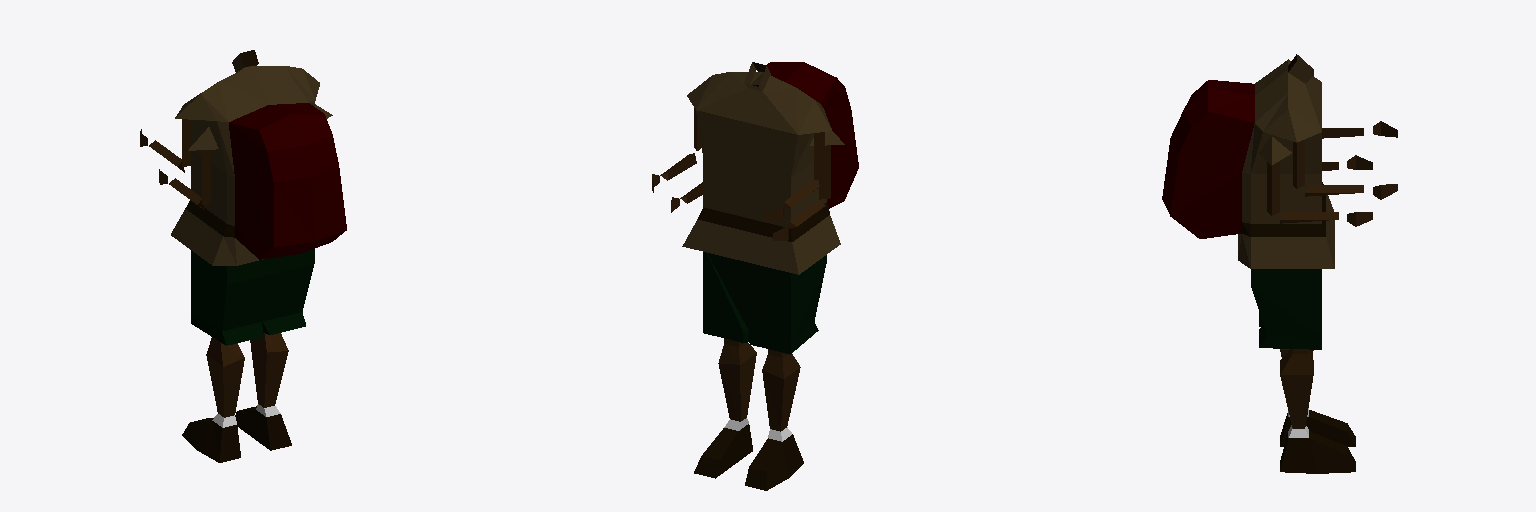
File: AntGuyBody.obj
3 renders of one model, left to right at view 1: azimuth 30°, elevation 25°; view 2: azimuth 150°, elevation 25°; view 3: azimuth 270°, elevation 25°, orthographic.
Parts seen in each view (by area): view 1: body; view 2: body; view 3: body.
Part boxes in pixels (x1,y1,x2,y2): body: (140,50,346,462); body: (652,62,858,490); body: (1162,54,1397,473).
Bounding box in the file's own units: 0.4053 × 1.05 × 0.5674.